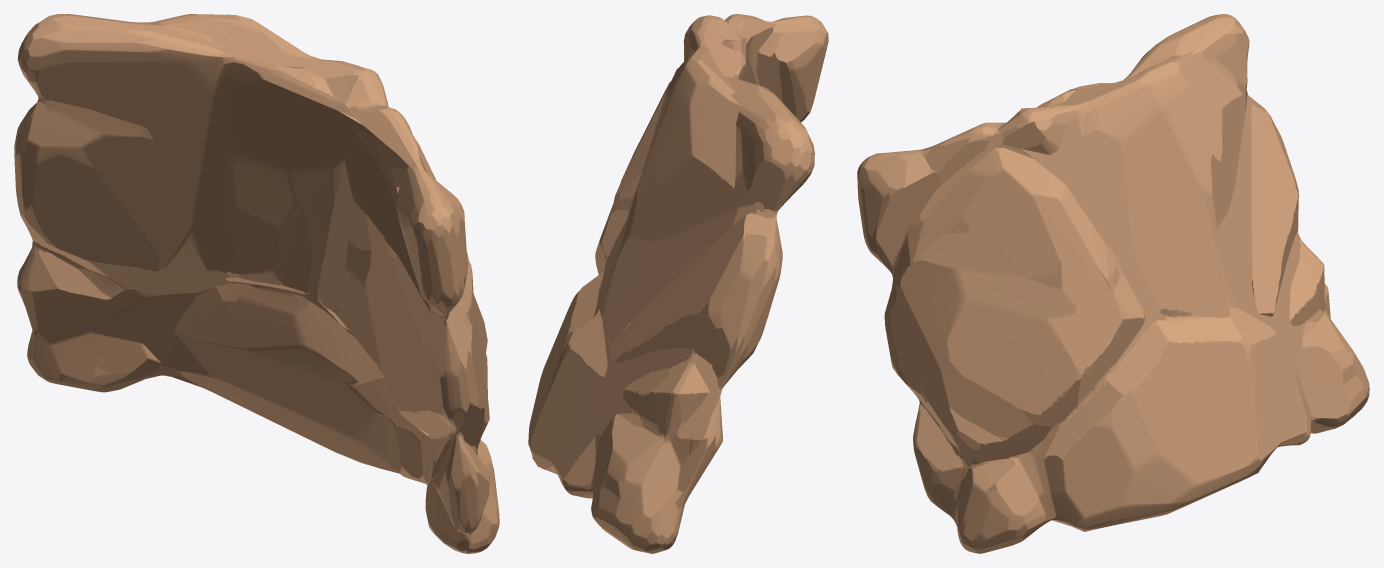
3 views of the same model, side by side, from view 1: azimuth 30°, elevation 25°; view 2: azimuth 150°, elevation 25°; view 3: azimuth 270°, elevation 25° (orthographic). The views are drawn at different scales.
Visible parts, largest first — view 1: Mesh_87_LOD0; view 2: Mesh_87_LOD0; view 3: Mesh_87_LOD0.
Part boxes in pixels (x1,y1,x2,y2): Mesh_87_LOD0: [14, 14, 499, 553]; Mesh_87_LOD0: [528, 14, 828, 553]; Mesh_87_LOD0: [857, 14, 1369, 553].
Size of what is drawn, in the model's own units: 1284 by 1766 by 1934.
